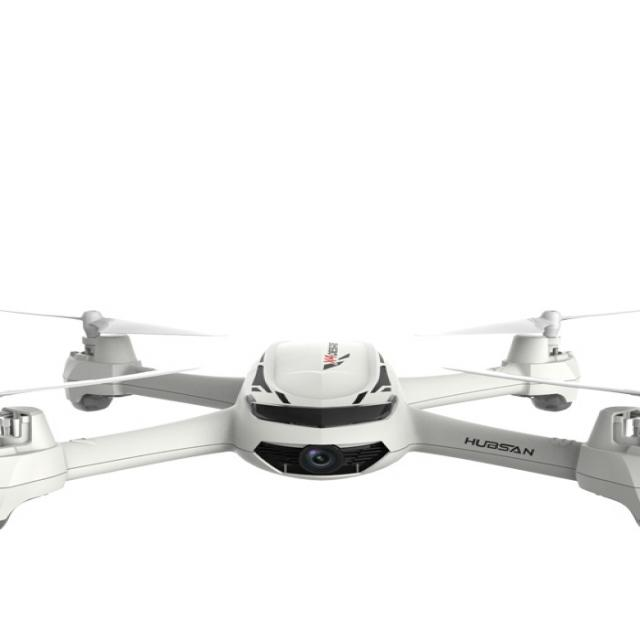drone: (0, 298, 640, 565)
